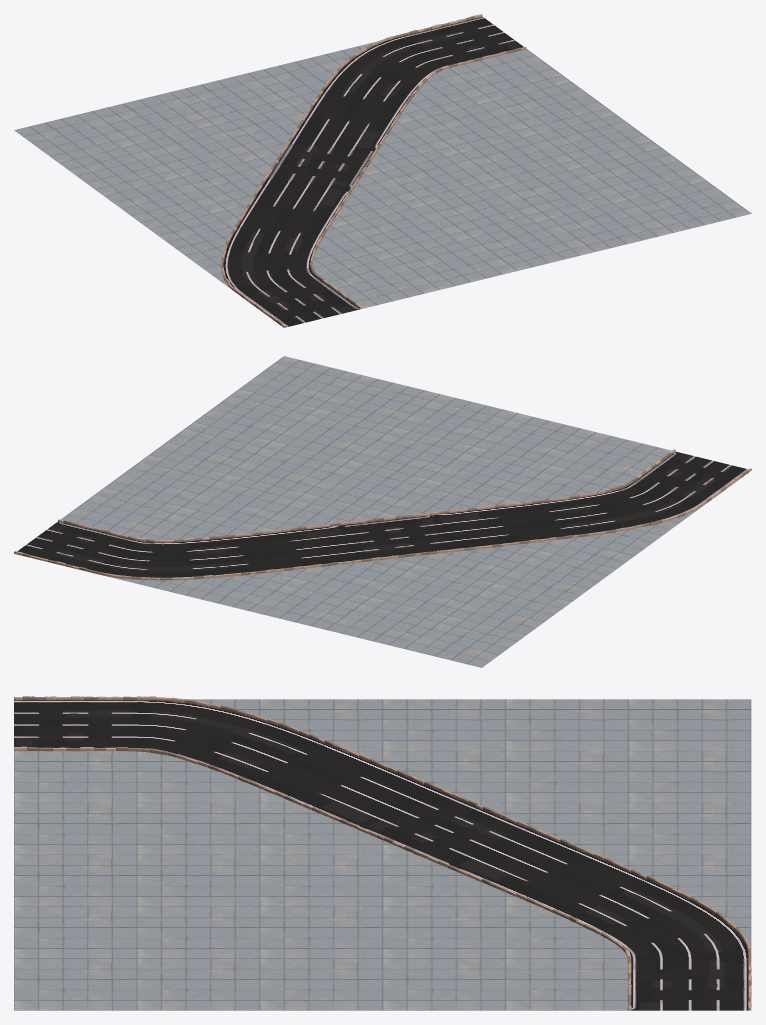
Rendered from CityRoad_45turn_6_6.fbx.
3 views of the same model, one above another, from view 1: azimuth 30°, elevation 25°; view 2: azimuth 150°, elevation 25°; view 3: azimuth 270°, elevation 25° (orthographic). The views are drawn at different scales.
Parts seen in each view (by area): view 1: CityRoad_45turn_6_6_mesh; view 2: CityRoad_45turn_6_6_mesh; view 3: CityRoad_45turn_6_6_mesh.
Boxes of the visible parts, <box> form: CityRoad_45turn_6_6_mesh: <box>14,14,751,327</box>; CityRoad_45turn_6_6_mesh: <box>14,356,751,667</box>; CityRoad_45turn_6_6_mesh: <box>14,696,751,1010</box>.
Bounding box in the file's own units: 6002 × 28.55 × 6006.
